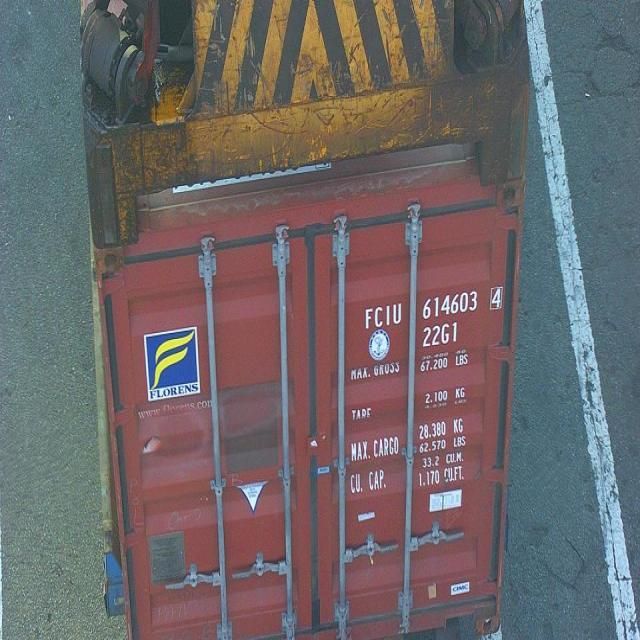ISO: (422, 319, 459, 352)
container_number: (363, 284, 503, 328)
